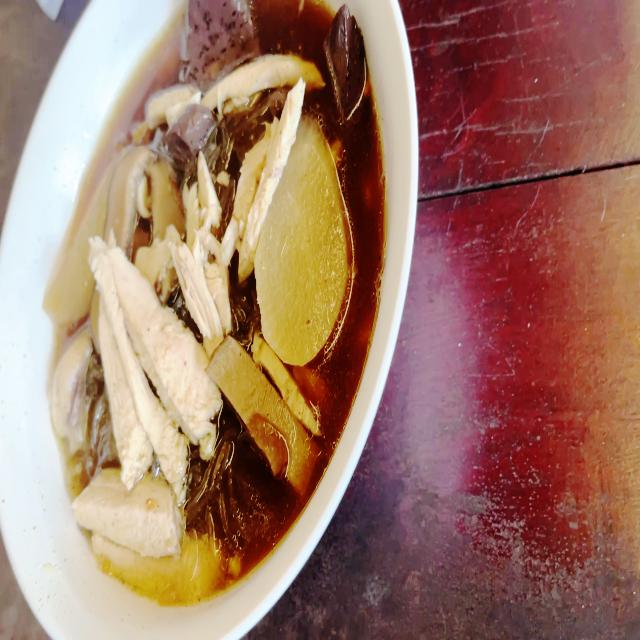boiled_chicken_blood_jelly: (178, 0, 262, 81), (324, 3, 368, 112), (171, 106, 215, 170)
chicken_shredded: (84, 237, 216, 481), (228, 86, 305, 270), (81, 463, 178, 553), (183, 147, 227, 333), (206, 47, 321, 104), (51, 332, 91, 431), (151, 82, 200, 120)
daikon_radish: (264, 159, 345, 354), (44, 162, 113, 325)
noodle: (52, 0, 380, 601)
